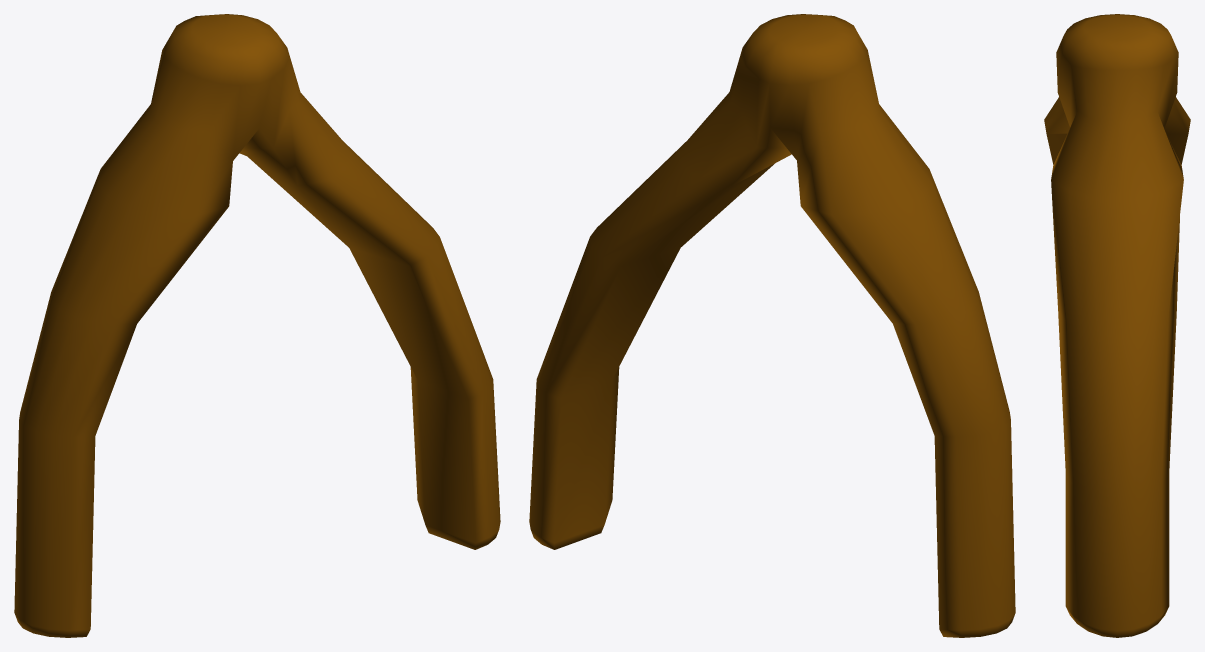
The model's file is Platzhalter_Baumwurzel.fbx.
3 views of the same model, side by side, from view 1: azimuth 30°, elevation 25°; view 2: azimuth 150°, elevation 25°; view 3: azimuth 270°, elevation 25° (orthographic). The views are drawn at different scales.
Visible parts, largest first — view 1: Platzhalter_Baumwurzel; view 2: Platzhalter_Baumwurzel; view 3: Platzhalter_Baumwurzel.
Boxes of the visible parts, x1,y1,x2,y2 form: Platzhalter_Baumwurzel: [14, 14, 500, 637]; Platzhalter_Baumwurzel: [529, 14, 1015, 637]; Platzhalter_Baumwurzel: [1044, 14, 1190, 637].
Size of the model in its own units: 48.61 by 55.09 by 14.69.
